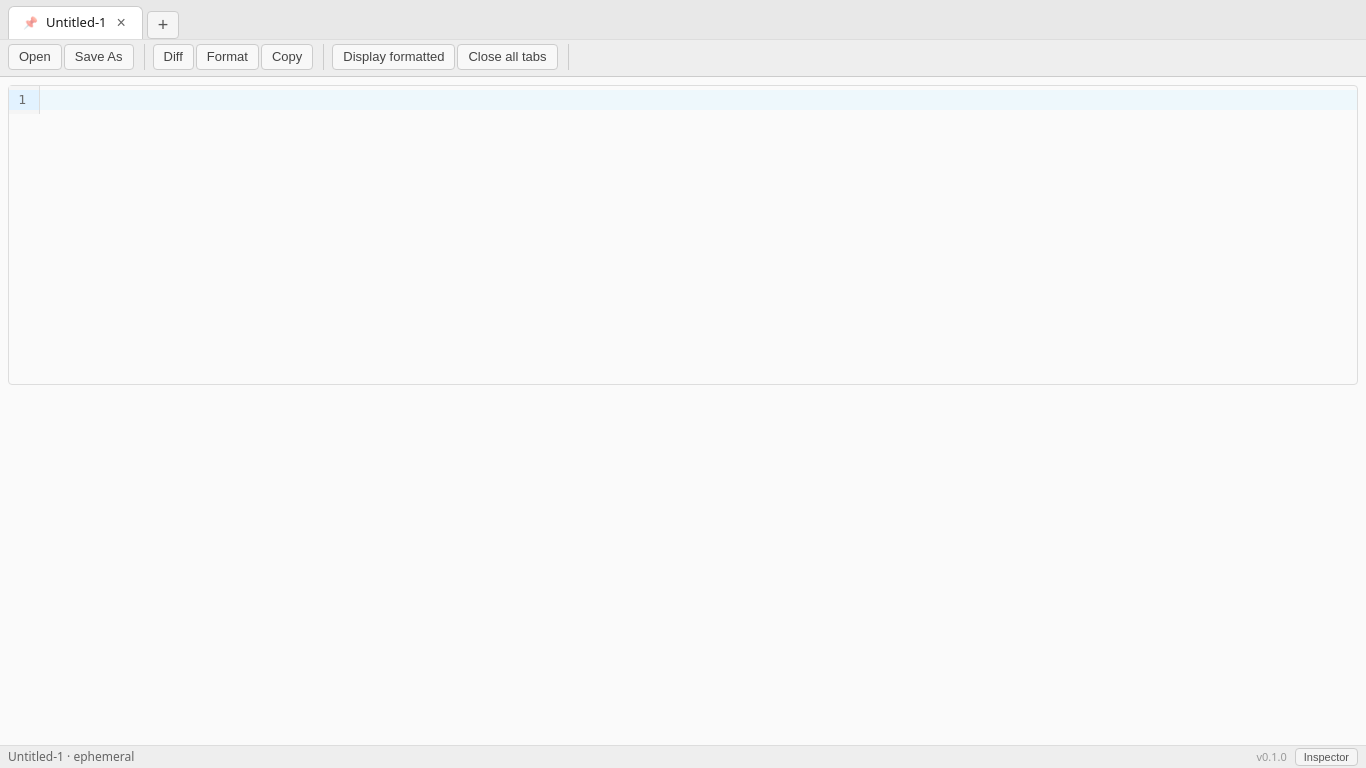
Test: App › closing the only tab shows empty state and status message
Click the button named "close untitled": click(121, 23) top-left (113, 15), bottom-right (130, 31)
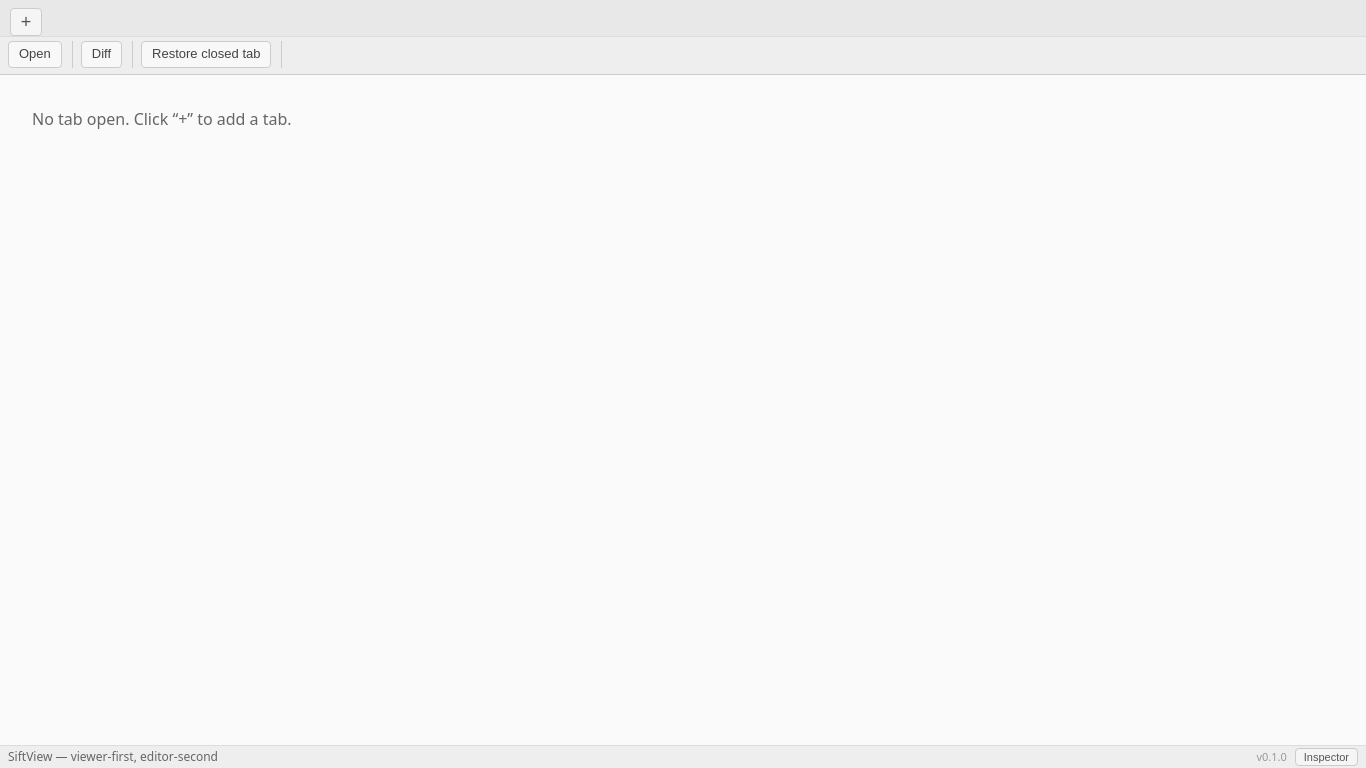
Check: the text "No tab open. Click “+” to add a tab." is shown, box top-left (32, 108), bottom-right (292, 130)
Check: the text "SiftView — viewer-first, editor-second" is shown, box top-left (8, 748), bottom-right (218, 765)
